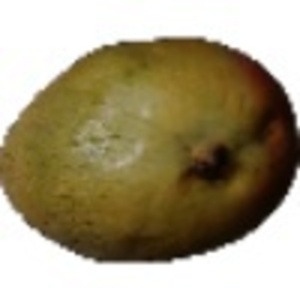mamão: (6, 31, 295, 267)
